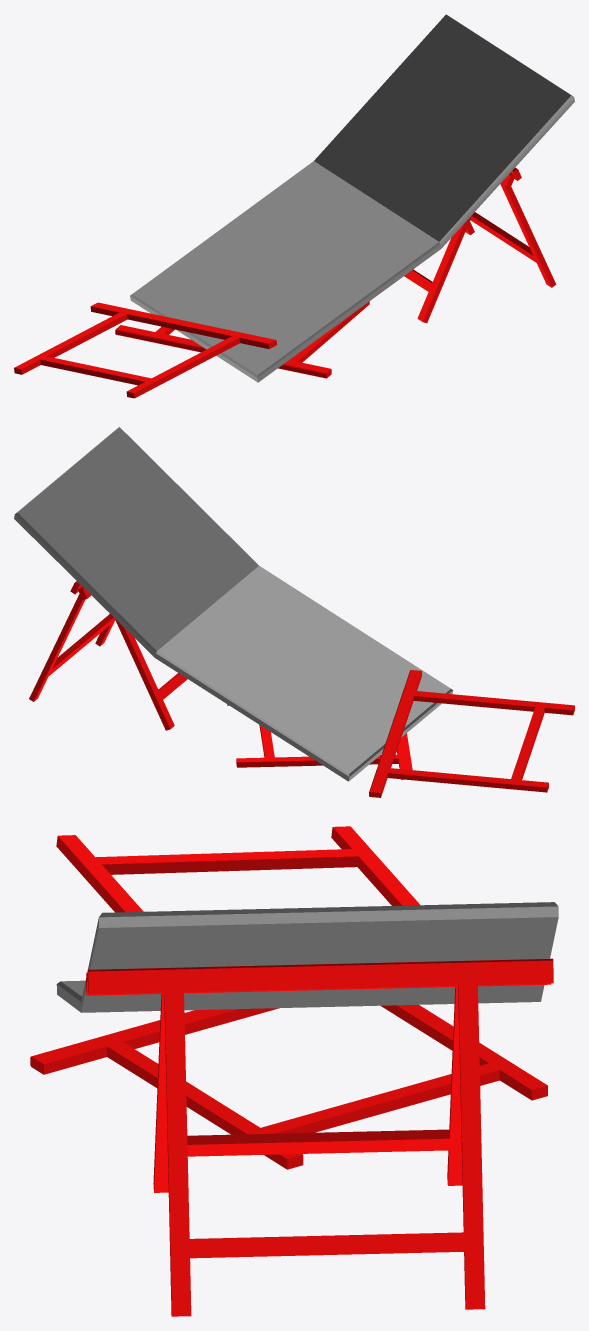
File: FBX_TreteauxCasse.fbx
3 renders of one model, top to bottom at view 1: azimuth 30°, elevation 25°; view 2: azimuth 150°, elevation 25°; view 3: azimuth 270°, elevation 25°, orthographic. The views are drawn at different scales.
Visible parts, largest first — view 1: Table; view 2: Table; view 3: Table.
Part boxes in pixels (box(x1,y1,x2,y2)): Table: box(14, 14, 574, 398); Table: box(14, 427, 574, 797); Table: box(30, 826, 558, 1316).
Size of the model in its own units: 382 by 151 by 178.
